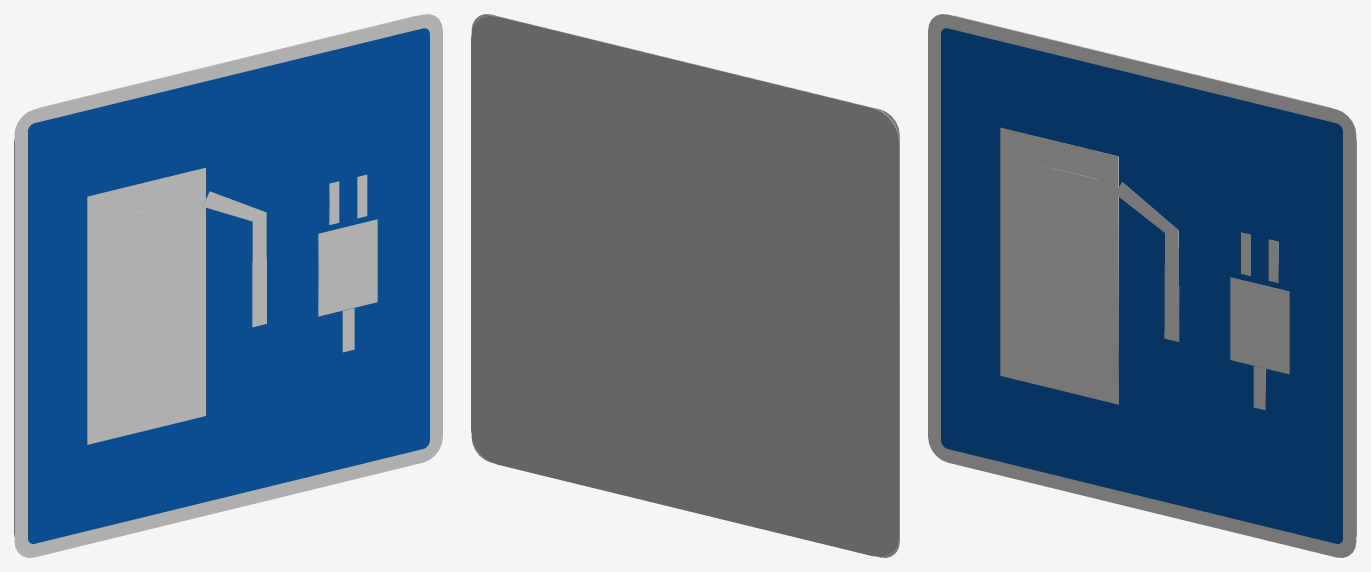
3 renders of one model, left to right at view 1: azimuth 30°, elevation 25°; view 2: azimuth 150°, elevation 25°; view 3: azimuth 330°, elevation 25°, orthographic.
Visible parts, largest first — view 1: CE15b_r01, CE15b_p02, CE15b_r00, CE15b_p03, CE15b_p05, CE15b_p04, CE15b_dos, CE15b_p08; view 2: CE15b_dos, CE15b_r00; view 3: CE15b_r01, CE15b_p02, CE15b_r00, CE15b_p03, CE15b_p05, CE15b_p04, CE15b_dos, CE15b_p08.
Boxes of the visible parts, bbox=[...] form: CE15b_r01: bbox=[28, 28, 429, 543]; CE15b_p02: bbox=[87, 167, 205, 444]; CE15b_r00: bbox=[14, 14, 442, 557]; CE15b_p03: bbox=[108, 201, 185, 287]; CE15b_p05: bbox=[318, 219, 377, 316]; CE15b_p04: bbox=[202, 191, 266, 327]; CE15b_dos: bbox=[14, 15, 416, 536]; CE15b_p08: bbox=[342, 308, 354, 352]; CE15b_dos: bbox=[471, 15, 899, 556]; CE15b_r00: bbox=[471, 14, 899, 557]; CE15b_r01: bbox=[941, 28, 1342, 543]; CE15b_p02: bbox=[1000, 127, 1118, 404]; CE15b_r00: bbox=[928, 14, 1356, 557]; CE15b_p03: bbox=[1021, 160, 1097, 247]; CE15b_p05: bbox=[1230, 277, 1289, 374]; CE15b_p04: bbox=[1115, 182, 1179, 341]; CE15b_dos: bbox=[954, 15, 1356, 536]; CE15b_p08: bbox=[1253, 366, 1265, 410].
Size of the model in its own units: 0.65 by 0.65 by 0.0049.
